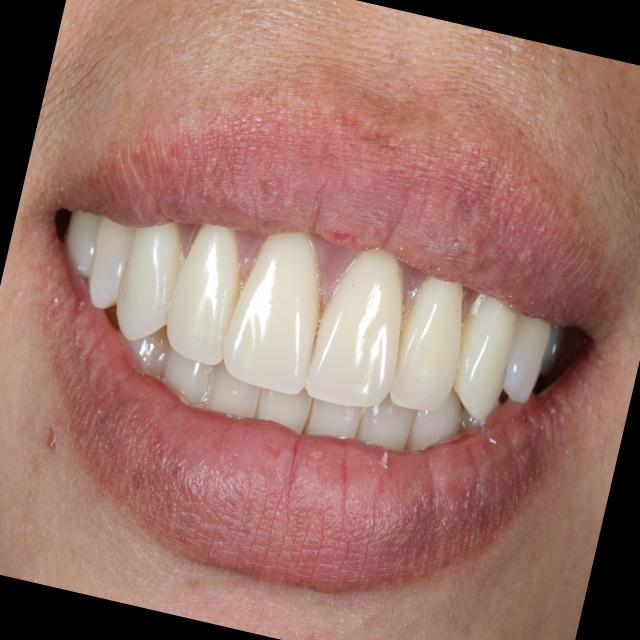Tooth: (223, 231, 321, 395), (307, 248, 402, 407), (166, 223, 240, 366), (389, 276, 462, 411), (452, 294, 518, 421), (116, 222, 185, 341), (502, 314, 551, 404), (88, 217, 133, 308), (404, 387, 461, 450), (355, 391, 415, 449), (206, 359, 261, 418), (161, 347, 213, 406), (255, 387, 312, 434), (303, 397, 365, 438)
